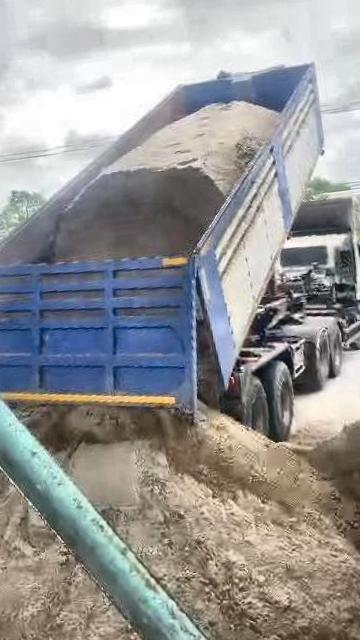sand: (28, 409, 360, 640), (49, 101, 280, 261), (0, 460, 169, 640), (289, 394, 360, 504), (198, 323, 217, 405)
